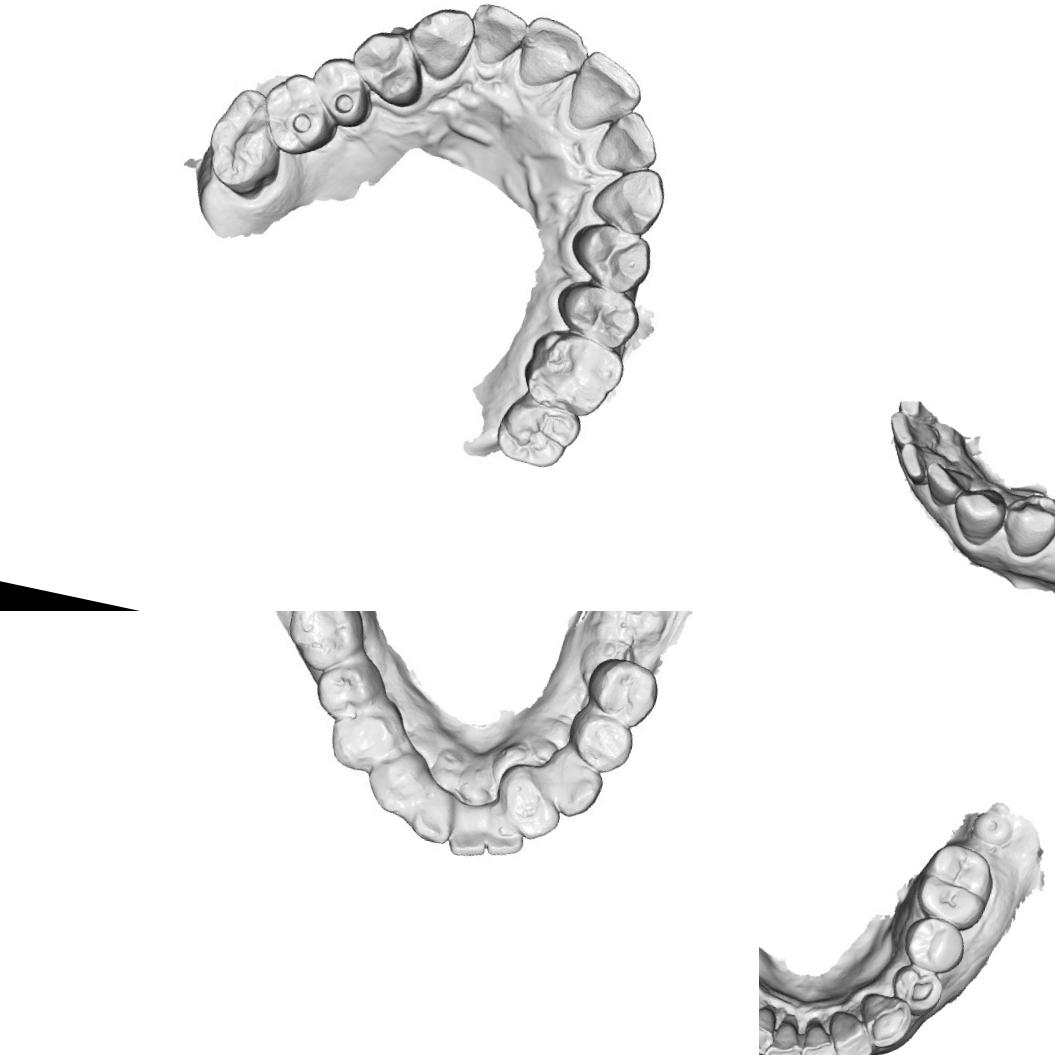canine: (592, 156, 668, 238), (410, 0, 474, 80), (364, 747, 430, 818), (851, 988, 916, 1055), (946, 481, 1008, 550), (548, 754, 608, 819)
implant: (968, 806, 1014, 849)
incisor: (562, 45, 650, 144), (514, 12, 592, 102), (594, 109, 667, 182), (464, 0, 532, 73), (499, 768, 566, 842), (917, 453, 980, 513), (887, 405, 952, 456), (479, 803, 530, 861), (406, 787, 456, 846), (761, 1009, 811, 1055), (448, 806, 490, 860), (827, 1012, 879, 1055), (894, 438, 936, 487), (795, 1016, 845, 1055), (759, 997, 779, 1055)
molar: (198, 80, 299, 208), (524, 330, 629, 424), (910, 834, 1000, 935), (489, 392, 588, 476), (256, 66, 340, 161), (275, 611, 366, 680)
premolar: (560, 214, 662, 300), (548, 275, 648, 352), (583, 652, 664, 734), (350, 21, 426, 101), (311, 653, 384, 729), (328, 704, 402, 776), (994, 487, 1055, 562), (900, 911, 969, 977), (308, 58, 370, 123), (573, 709, 635, 772), (888, 960, 947, 1018)
